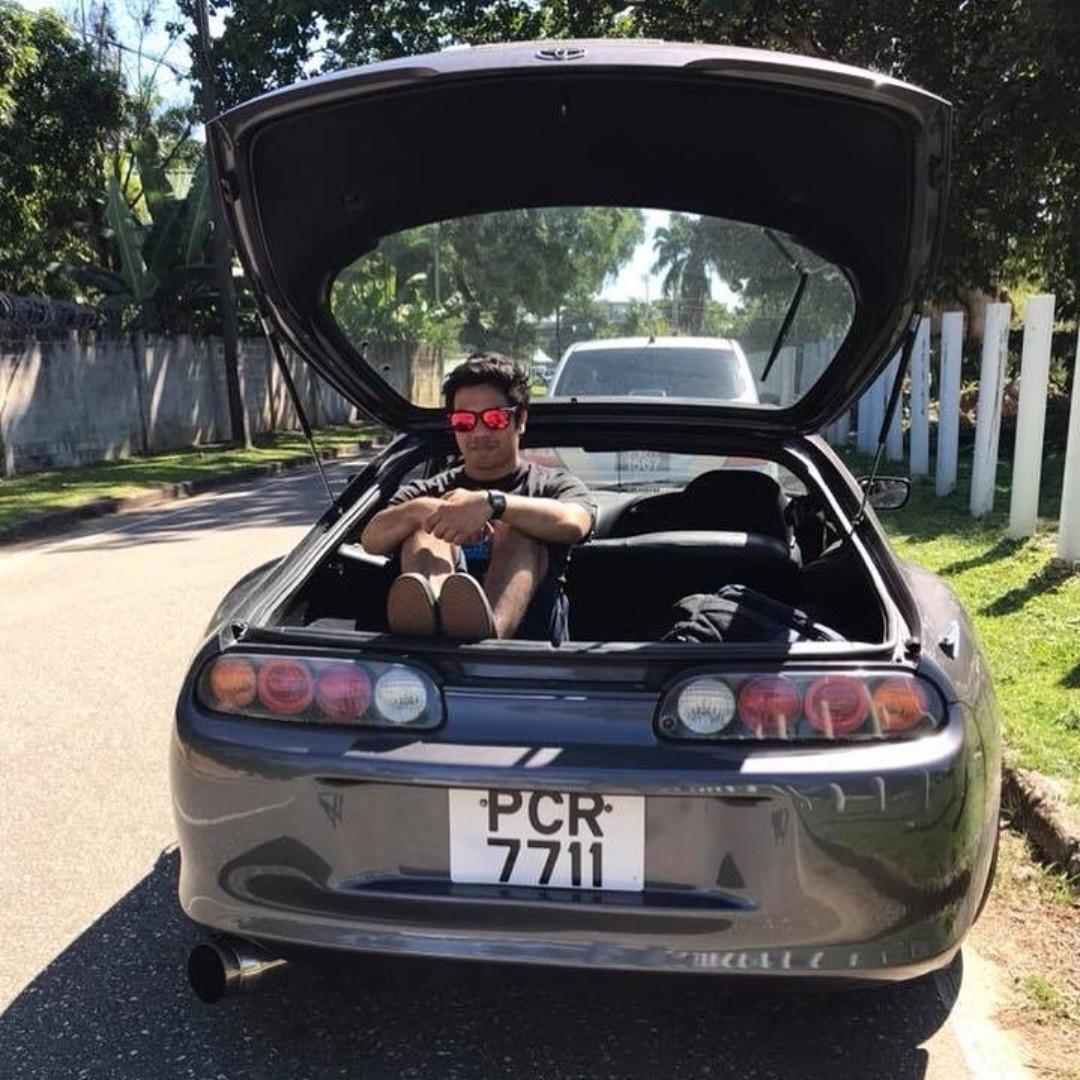License-Plate: (451, 785, 643, 883)
